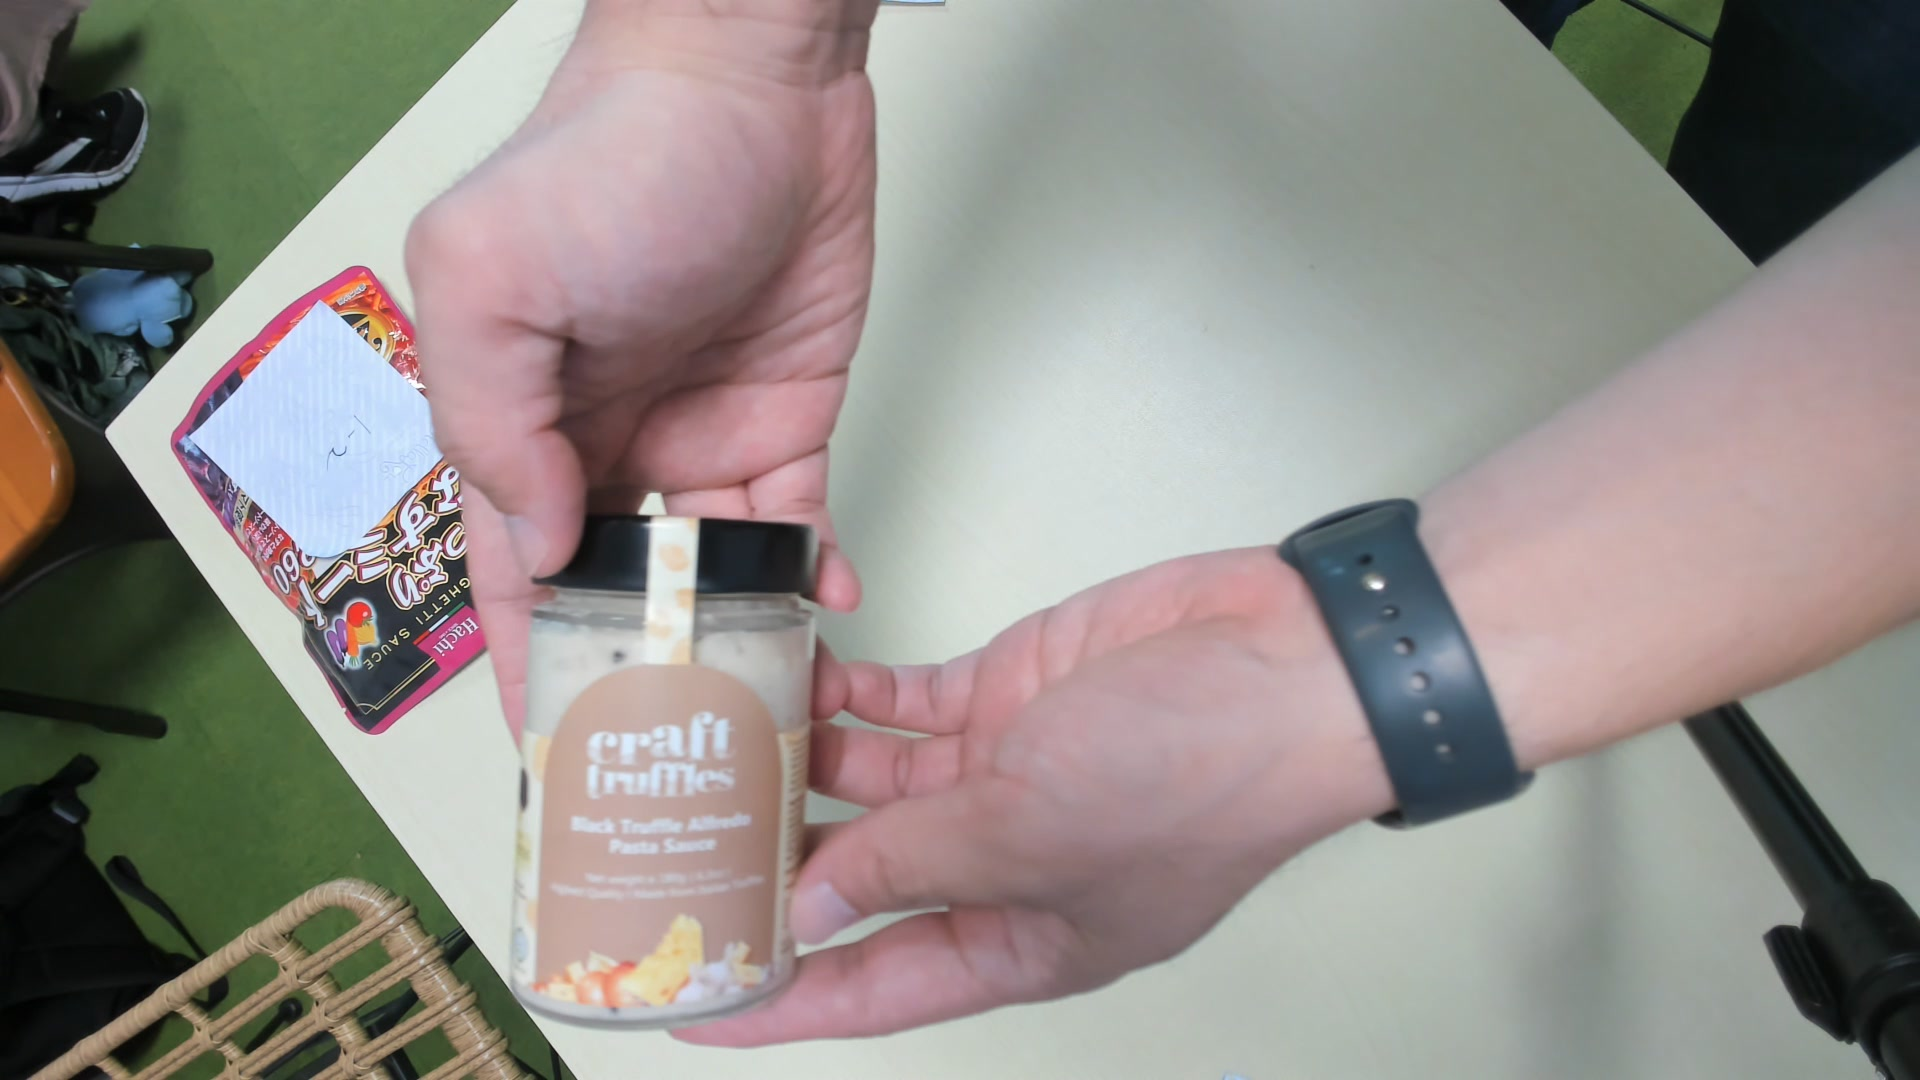PastaSauce_100-199g_Halal_NonHealthy: (508, 521, 812, 1025)
